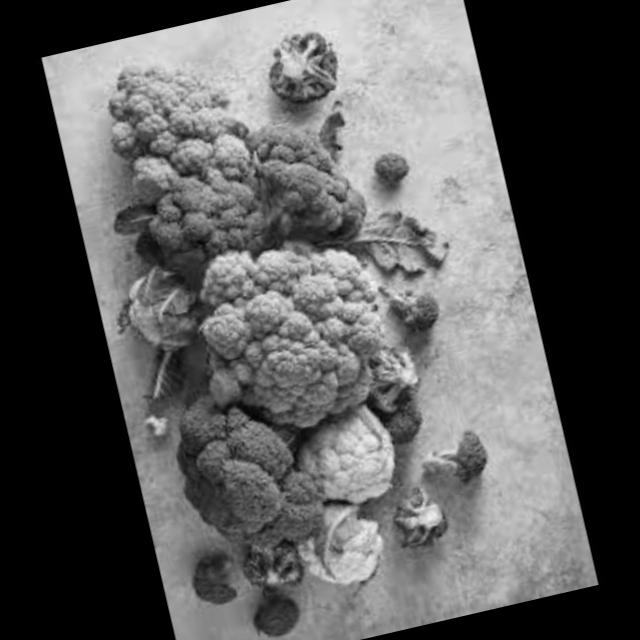broccoli: (106, 123, 381, 295), (152, 386, 328, 592), (356, 280, 470, 454), (374, 421, 506, 561), (178, 534, 327, 640), (240, 17, 356, 127), (368, 133, 420, 192)
cauliflower: (186, 214, 420, 438), (86, 27, 249, 189), (288, 388, 408, 505), (283, 496, 402, 603)
